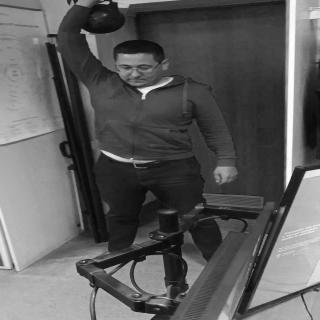kettlebell: (63, 1, 128, 37)
